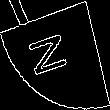N_E: (30, 28, 80, 82)
